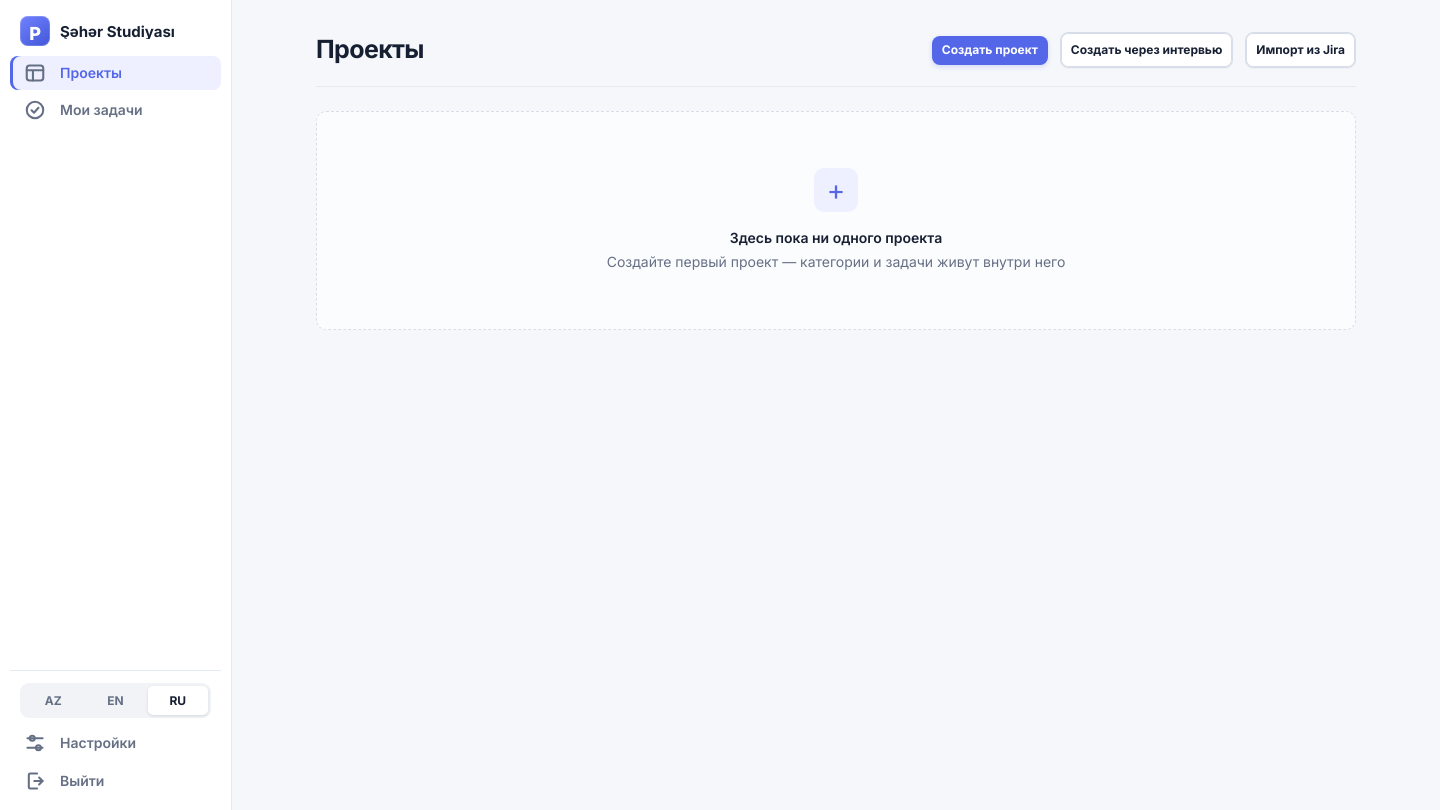
Test case: защищённые маршруты › выход возвращает на экран входа и забывает пользователя
Click the button "Выйти" at x=116, y=781, box [10,764,221,798]
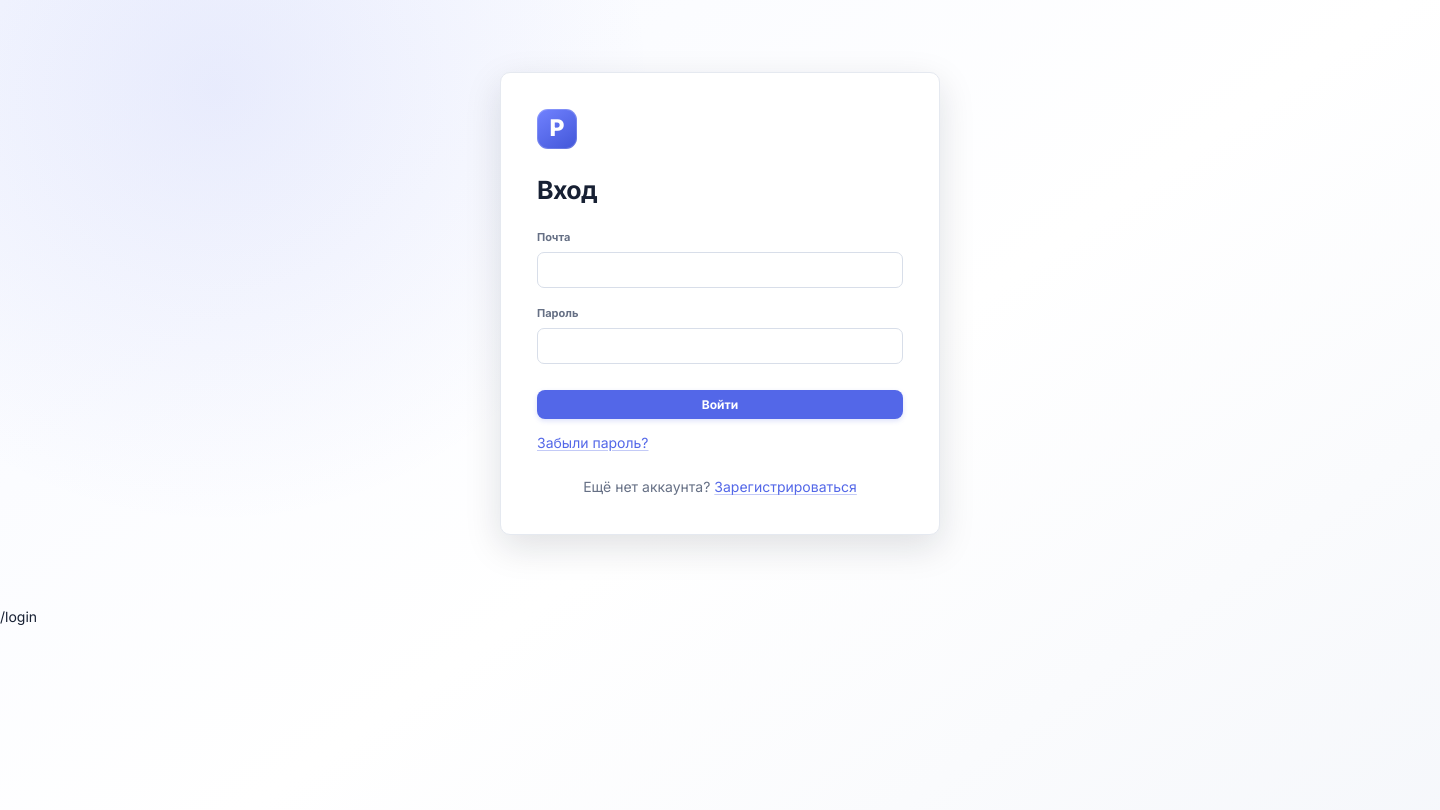
expect the heading "Вход" is shown: met, box [537,175,597,205]
